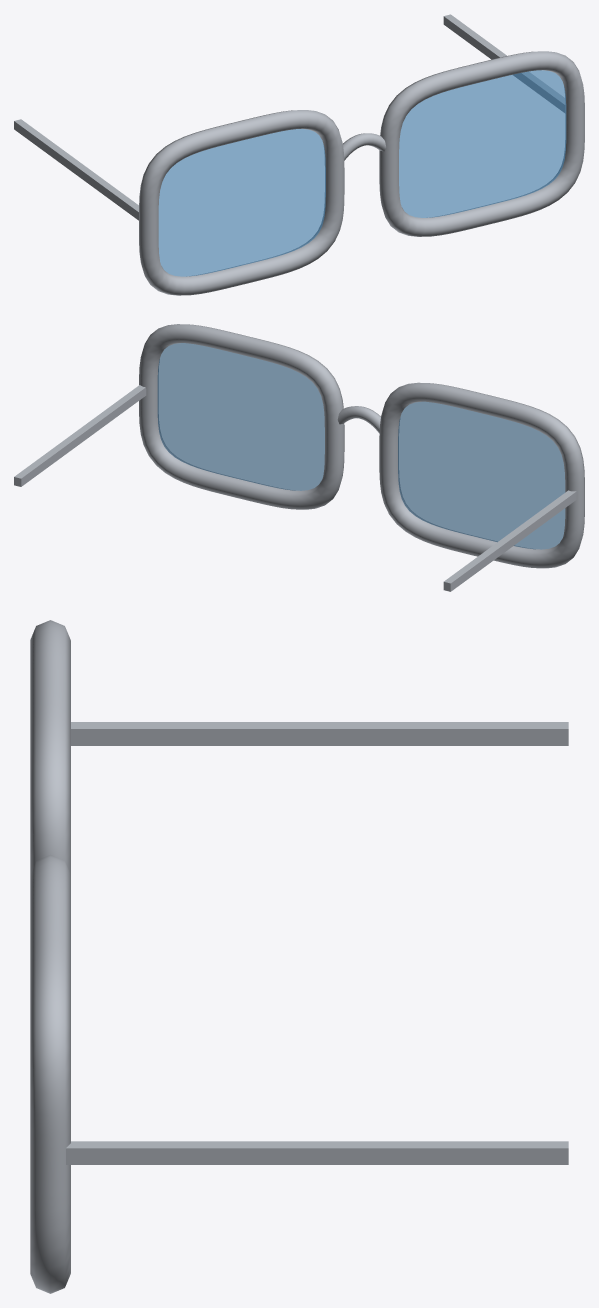
Rendered from optical.glb.
3 renders of one model, top to bottom at view 1: azimuth 30°, elevation 25°; view 2: azimuth 150°, elevation 25°; view 3: azimuth 270°, elevation 25°, orthographic. The views are drawn at different scales.
Parts seen in each view (by area): view 1: lens (×2), object 1, object 4, object 3, object 6, object 7; view 2: lens (×2), object 4, object 1, object 3, object 6, object 7; view 3: object 4, object 6, object 3, object 1.
Part boxes in pixels (x1,y1,x2,y2): lens (×2): (158, 70, 566, 276); object 1: (139, 110, 344, 295); object 4: (379, 51, 584, 236); object 3: (14, 119, 138, 220); object 6: (443, 14, 564, 112); object 7: (343, 133, 385, 160); lens (×2): (157, 343, 565, 549); object 4: (139, 324, 344, 509); object 1: (379, 382, 584, 568); object 3: (443, 490, 576, 591); object 6: (14, 385, 146, 486); object 7: (337, 406, 380, 433); object 4: (30, 854, 70, 1293); object 6: (66, 1141, 568, 1164); object 3: (71, 722, 568, 745); object 1: (30, 620, 70, 874).
Bounding box in the file's own units: 2.77 × 0.97 × 1.45.
